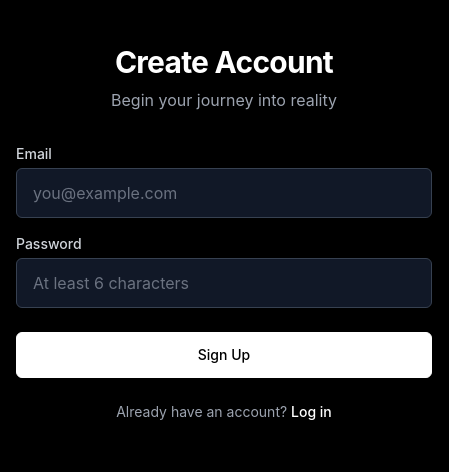
Test: SignupPage › shows error for weak password
Type "test@example.com" into the field labelled "Email" at {"x": 224, "y": 193}, box [16,168,432,218]
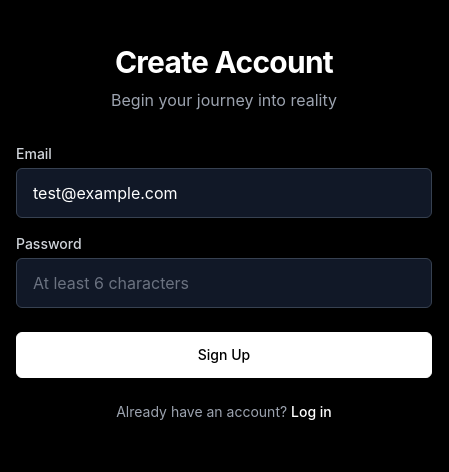
Type "12345" into the password field labelled "Password" at {"x": 224, "y": 283}, box [16,258,432,308]
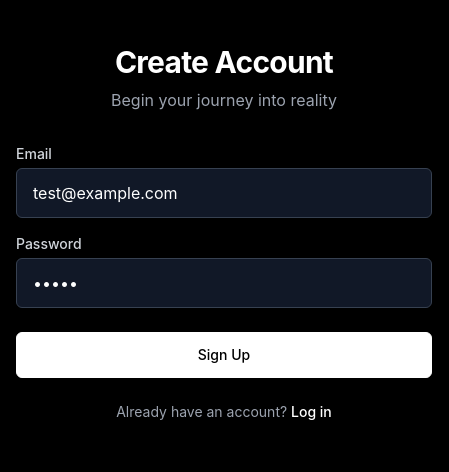
Click the button "Sign Up" at {"x": 224, "y": 355}, box [16,332,432,378]
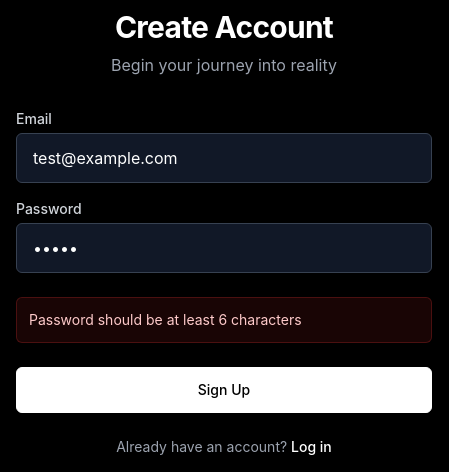
Check: the text "Password should be at least 6 characters" is shown, box [29,311,302,328]
